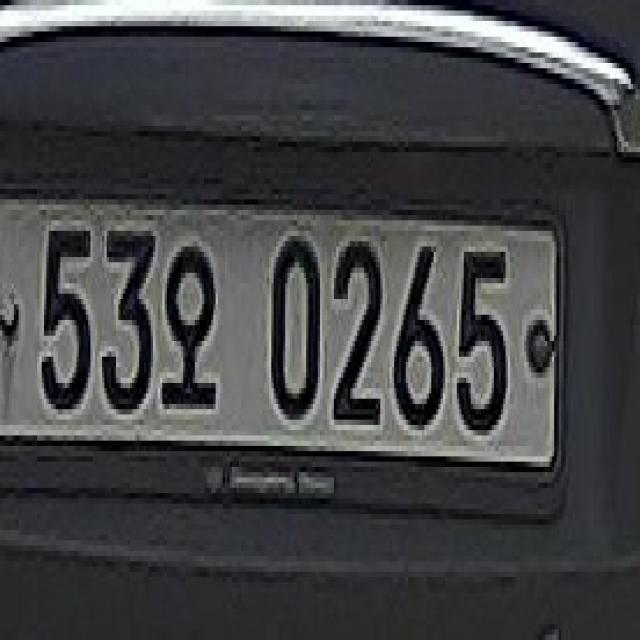0: (260, 210, 327, 446)
2: (322, 231, 383, 435)
3: (95, 215, 160, 462)
5: (452, 226, 524, 457), (34, 204, 100, 436)
6: (390, 199, 452, 483)
license_plate: (2, 194, 570, 472)
o: (156, 236, 220, 414)
